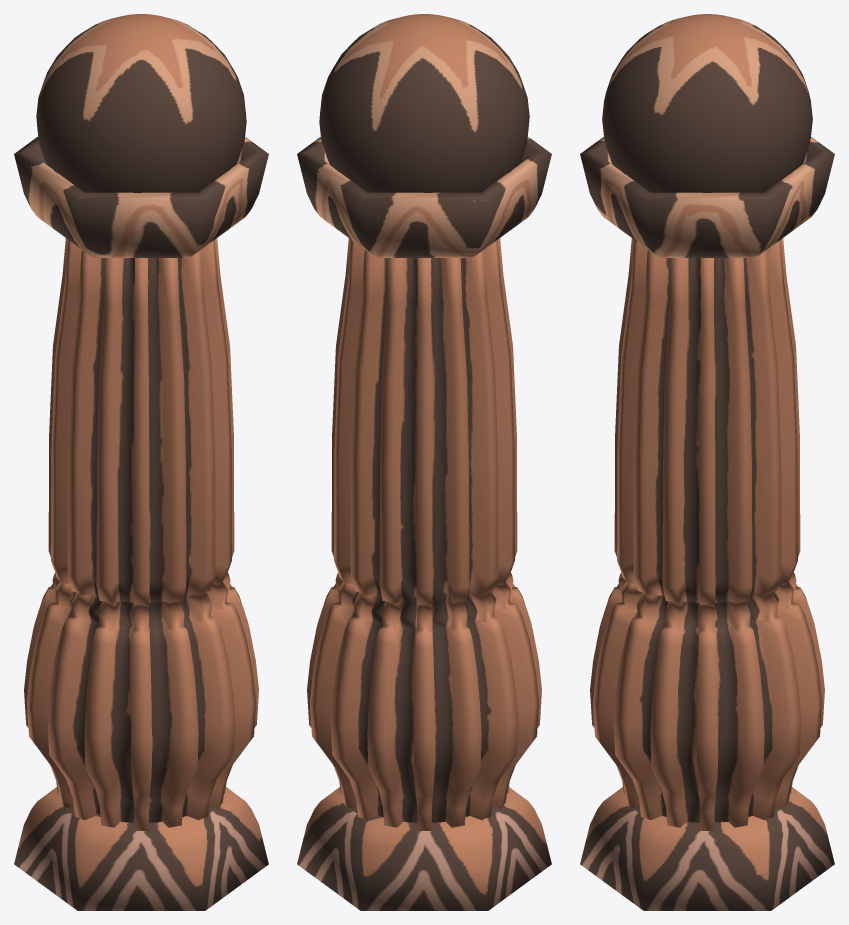
Rendered from pillar_1.fbx.
The picture shows the model from 3 angles, left to right: view 1: azimuth 30°, elevation 25°; view 2: azimuth 150°, elevation 25°; view 3: azimuth 270°, elevation 25°; orthographic projection.
Parts seen in each view (by area): view 1: shaft; view 2: shaft; view 3: shaft.
Boxes of the visible parts, x1,y1,x2,y2 form: shaft: [14, 14, 268, 910]; shaft: [297, 14, 551, 910]; shaft: [580, 14, 834, 910].
Bounding box in the file's own units: 318 × 1268 × 347.
